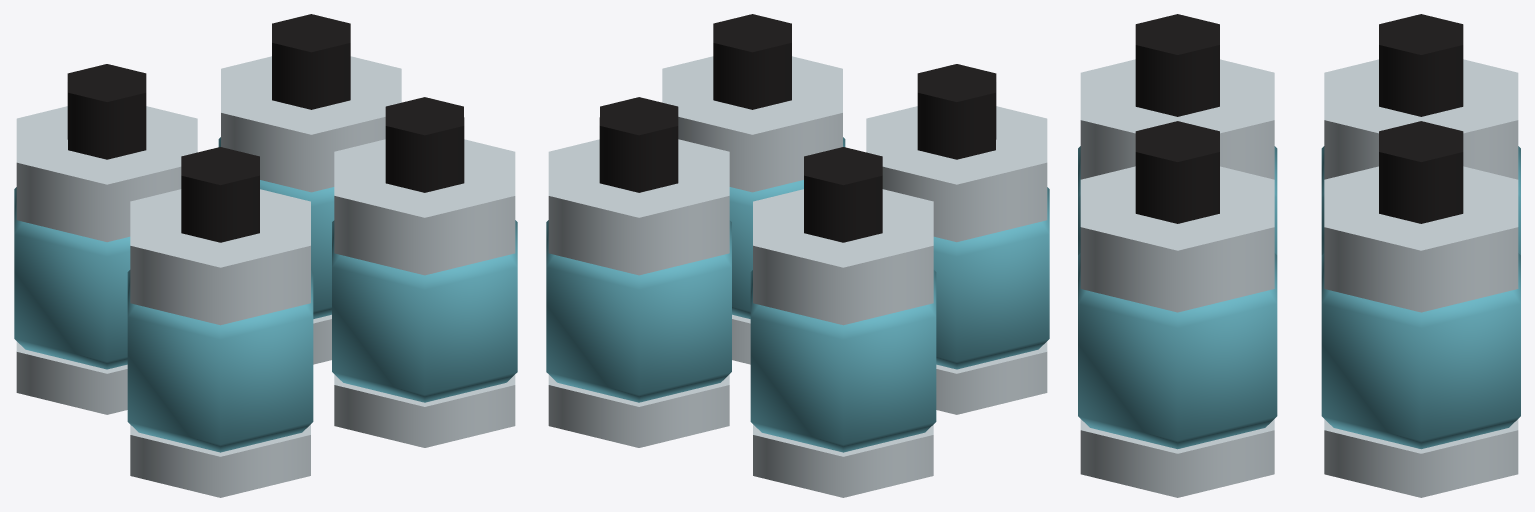
File: item_rm_neutroamine_c.obj
The picture shows the model from 3 angles, left to right: view 1: azimuth 30°, elevation 25°; view 2: azimuth 150°, elevation 25°; view 3: azimuth 270°, elevation 25°; orthographic projection. The views are drawn at different scales.
Parts seen in each view (by area): view 1: bottle_body_280, bottle_body_300, part_220_rawmat_bottle, part_180_rawmat_bottle, part_100_rawmat_bottle, bottle_body_240, part_140_rawmat_bottle, part_200_rawmat_bottle, part_160_rawmat_bottle, part_000_an_dark, part_060_an_dark, part_040_an_dark (+4 smaller); view 2: bottle_body_240, bottle_body_260, part_140_rawmat_bottle, part_100_rawmat_bottle, part_180_rawmat_bottle, bottle_body_280, part_220_rawmat_bottle, part_120_rawmat_bottle, part_080_rawmat_bottle, part_020_an_dark, part_040_an_dark, part_000_an_dark (+4 smaller); view 3: bottle_body_260, bottle_body_300, part_140_rawmat_bottle, part_220_rawmat_bottle, part_100_rawmat_bottle, part_180_rawmat_bottle, part_120_rawmat_bottle, part_200_rawmat_bottle, part_000_an_dark, part_040_an_dark, part_020_an_dark, part_060_an_dark (+2 smaller).
Boxes of the visible parts, x1,y1,x2,y2 form: bottle_body_280: (127,270,313,452); bottle_body_300: (332,220,517,402); part_220_rawmat_bottle: (334,139,515,275); part_180_rawmat_bottle: (130,189,310,325); part_100_rawmat_bottle: (16,106,197,242); bottle_body_240: (14,187,130,369); part_140_rawmat_bottle: (221,56,401,192); part_200_rawmat_bottle: (334,374,515,447); part_160_rawmat_bottle: (130,424,310,497); part_000_an_dark: (67,64,146,159); part_060_an_dark: (385,97,464,192); part_040_an_dark: (181,147,259,242); bottle_body_240: (750,270,936,452); bottle_body_260: (546,220,731,402); part_140_rawmat_bottle: (548,139,729,275); part_100_rawmat_bottle: (753,189,933,325); part_180_rawmat_bottle: (866,106,1047,242); bottle_body_280: (933,187,1049,369); part_220_rawmat_bottle: (662,56,842,192); part_120_rawmat_bottle: (548,374,729,447); part_080_rawmat_bottle: (753,424,933,497); part_020_an_dark: (599,97,678,192); part_040_an_dark: (917,64,996,159); part_000_an_dark: (804,147,882,242); bottle_body_260: (1321,253,1520,449); bottle_body_300: (1078,253,1277,449); part_140_rawmat_bottle: (1324,166,1518,312); part_220_rawmat_bottle: (1080,166,1274,312); part_100_rawmat_bottle: (1324,59,1518,179); part_180_rawmat_bottle: (1080,59,1274,179); part_120_rawmat_bottle: (1324,419,1518,497); part_200_rawmat_bottle: (1080,419,1274,497); part_000_an_dark: (1379,14,1463,116); part_040_an_dark: (1135,14,1219,116); part_020_an_dark: (1379,121,1463,223); part_060_an_dark: (1135,121,1219,223).
Size of the model in its own units: 0.6548 by 0.462 by 0.5998.
